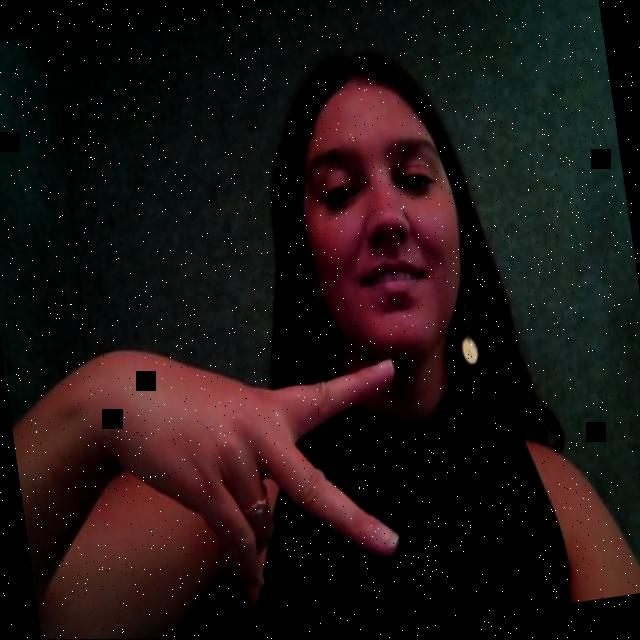Scissors: (105, 302, 423, 604)
